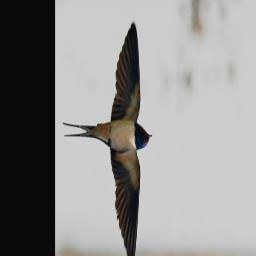Swallow: (61, 15, 152, 256)
